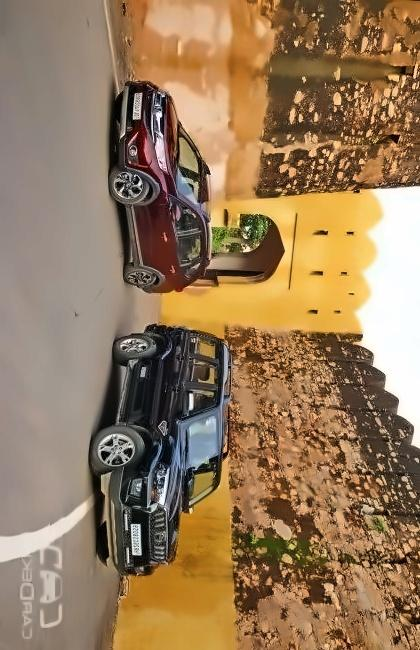Car hood: (167, 420, 190, 562), (163, 91, 180, 193)
Driver-s door - -F-R-: (111, 373, 224, 423)
Fender - -F-L-: (122, 163, 187, 212)
Fender - -F-R-: (101, 410, 186, 469)
Fender - -R-L-: (147, 260, 194, 294)
Fender - -R-R-: (143, 325, 203, 364)
Front bumper: (98, 454, 158, 578), (117, 77, 158, 174)
Headlight - -L-: (154, 130, 171, 175)
Headlight - -R-: (146, 461, 172, 512)
Passenger-s door - -F-L-: (122, 197, 213, 242)
Passenger-s door - -R-L-: (124, 237, 217, 269)
Passenger-s door - -R-R-: (122, 350, 233, 391)
Side bumper - -L-: (120, 203, 151, 268)
Side bumper - -R-: (115, 356, 148, 425)
Side mirror - -L-: (168, 194, 183, 221)
Side mirror - -R-: (179, 385, 195, 422)
